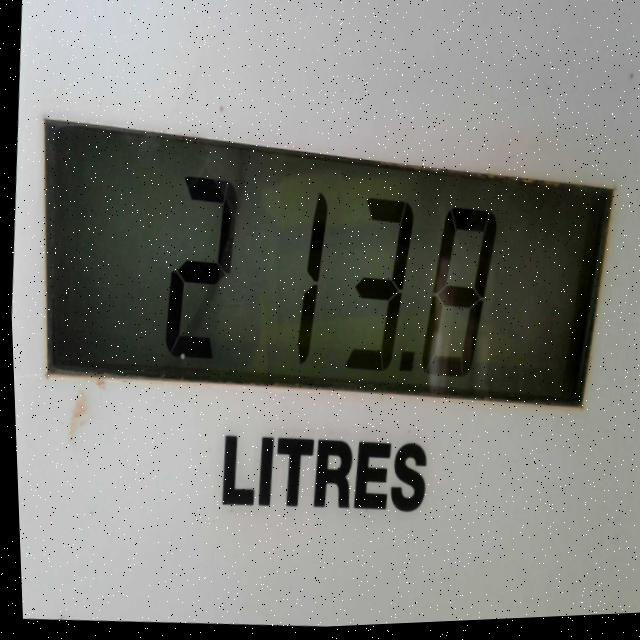.: (390, 342, 423, 403)
1: (271, 176, 348, 377)
2: (139, 151, 251, 368)
3: (334, 186, 411, 385)
8: (405, 200, 506, 403)
